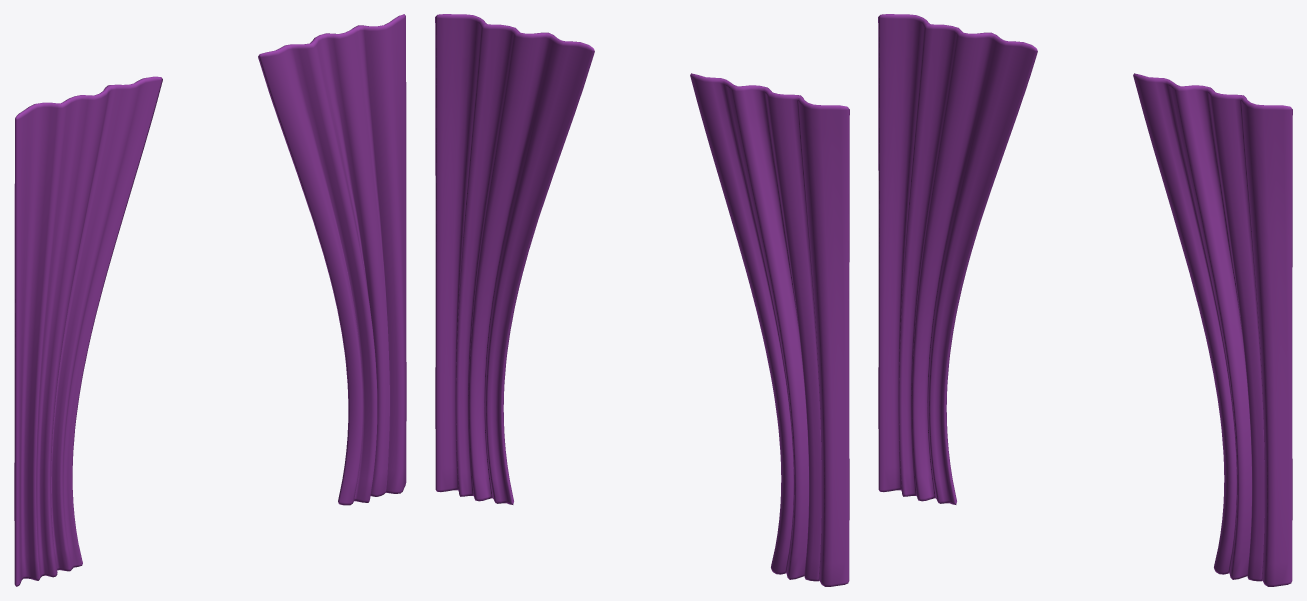
Rendered from ridofenetre.fbx.
3 renders of one model, left to right at view 1: azimuth 30°, elevation 25°; view 2: azimuth 150°, elevation 25°; view 3: azimuth 330°, elevation 25°, orthographic.
Parts seen in each view (by area): view 1: ridofenetre1, ridofenetre; view 2: ridofenetre, ridofenetre1; view 3: ridofenetre1, ridofenetre.
Part boxes in pixels (<box>): ridofenetre1: <box>258,14,406,505</box>; ridofenetre: <box>14,76,162,586</box>; ridofenetre: <box>690,73,849,586</box>; ridofenetre1: <box>435,14,594,504</box>; ridofenetre1: <box>1133,73,1292,586</box>; ridofenetre: <box>878,14,1037,504</box>.
Size of the model in its own units: 25.82 by 29.17 by 1.68.
